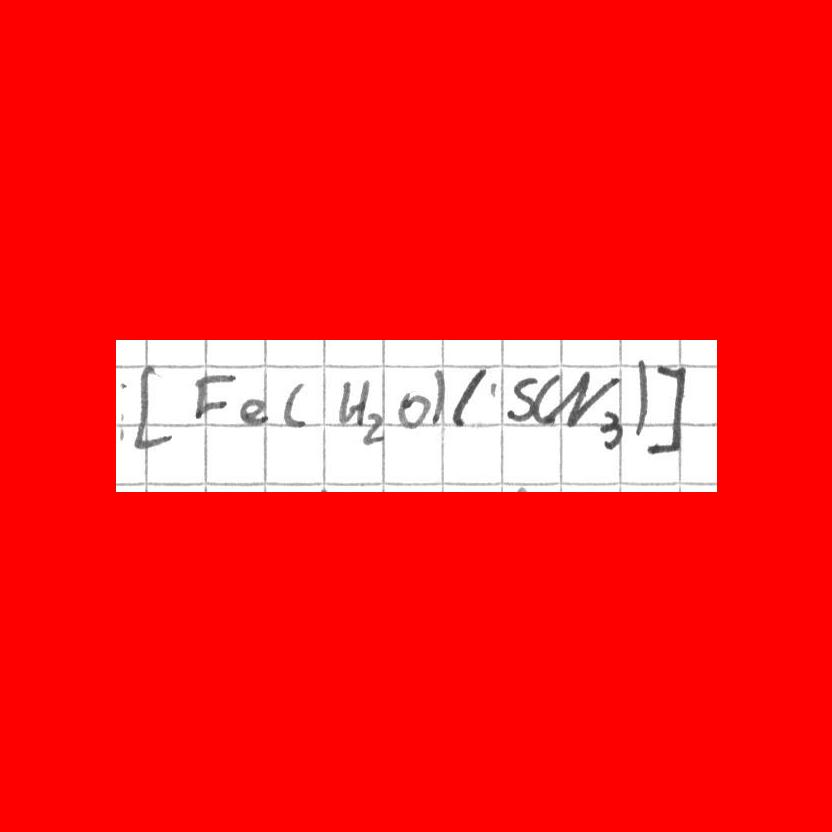Char: (645, 355, 690, 455), (560, 366, 618, 429), (130, 366, 173, 449), (450, 362, 488, 433), (190, 371, 235, 425), (629, 351, 651, 440), (503, 374, 539, 427), (336, 374, 369, 430), (529, 372, 561, 426), (280, 380, 307, 429), (596, 407, 626, 451), (397, 388, 428, 428), (430, 367, 448, 427), (360, 410, 385, 448), (238, 394, 267, 426)
